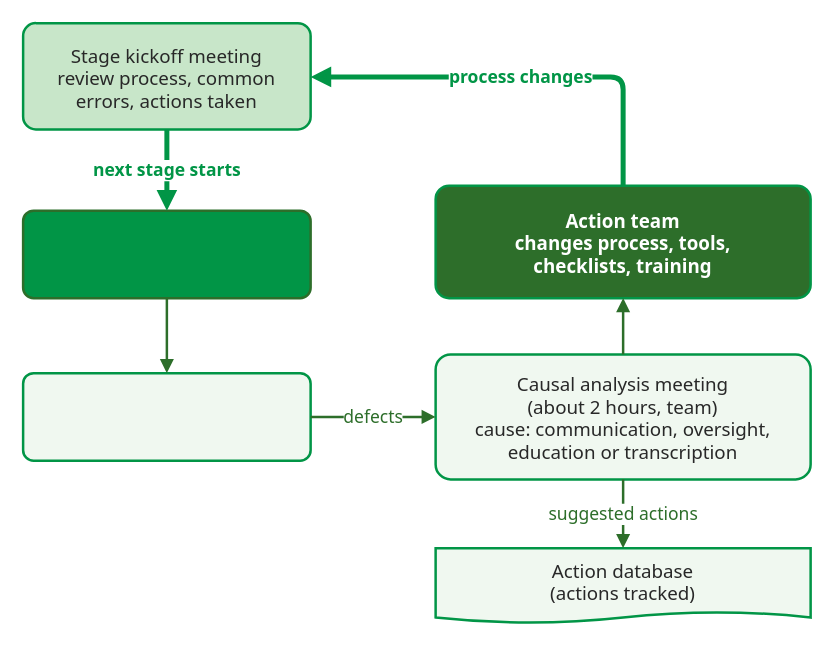
This 833x645 diagram has some shape labels left out. Each missing label, with the centre of its shape:
Development stage (design, code, test): the point at 166,254
Inspection, review or test finds defects: the point at 166,416
